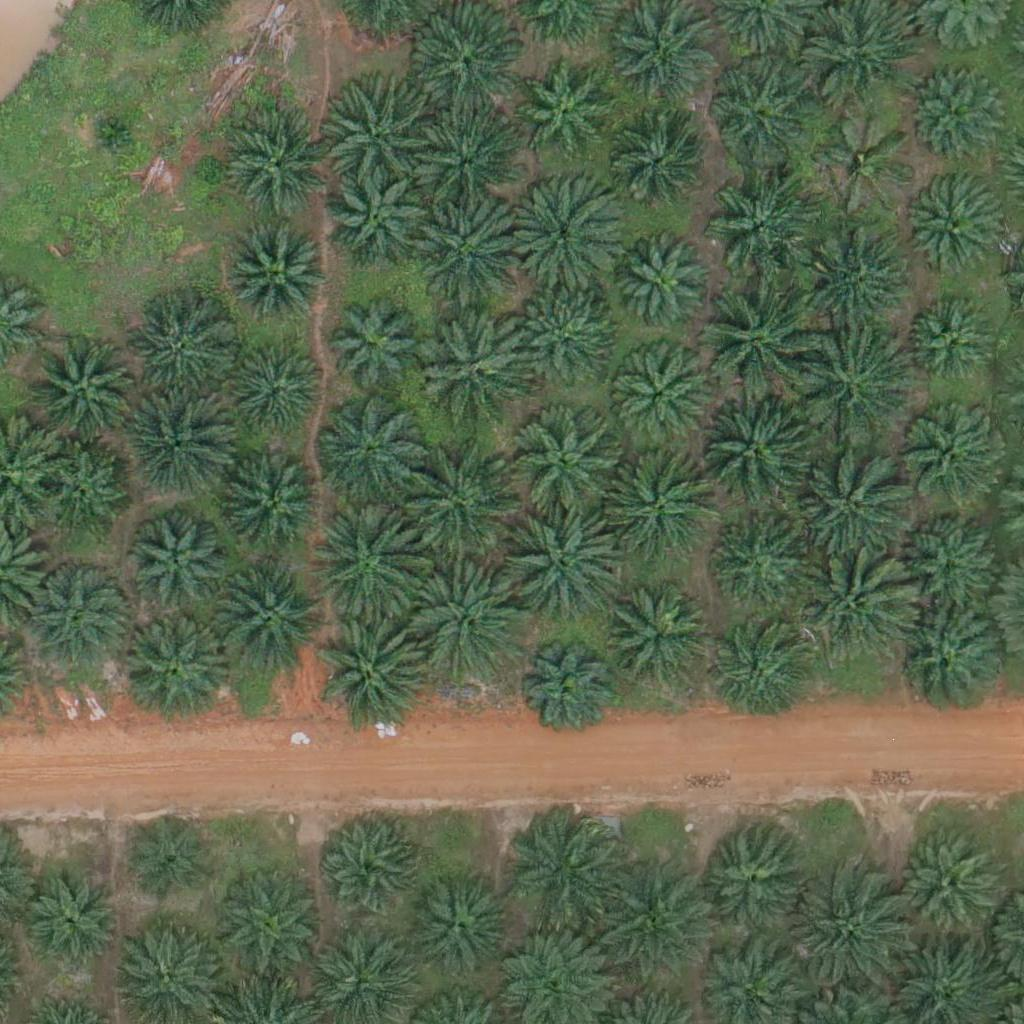Kelapa_Sawit: (699, 392, 812, 506), (506, 176, 619, 290), (415, 192, 528, 306), (409, 569, 522, 683), (306, 509, 419, 623), (122, 610, 235, 724), (209, 562, 322, 676), (589, 870, 702, 983), (503, 819, 616, 932), (793, 446, 906, 559), (796, 217, 909, 330), (698, 286, 811, 399), (601, 450, 714, 563), (511, 411, 624, 524), (420, 310, 533, 423), (121, 389, 234, 502), (694, 824, 806, 938), (209, 868, 321, 982), (796, 331, 908, 445), (313, 393, 425, 507), (792, 875, 904, 988), (891, 603, 1003, 716), (796, 551, 908, 664), (704, 165, 816, 278), (603, 587, 715, 700), (513, 508, 625, 621), (413, 14, 525, 127), (402, 443, 514, 556), (318, 620, 430, 733), (324, 70, 436, 183), (26, 333, 138, 446), (894, 835, 994, 936), (412, 871, 512, 972), (907, 62, 1007, 163), (904, 178, 1004, 279), (903, 404, 1003, 505), (707, 63, 807, 164), (711, 516, 811, 617), (708, 625, 808, 726), (613, 8, 713, 109), (608, 348, 708, 449), (514, 63, 614, 164), (325, 298, 425, 399), (326, 168, 426, 269), (127, 519, 227, 620), (28, 563, 128, 664), (317, 818, 417, 918), (22, 864, 122, 964), (904, 506, 1004, 606), (816, 113, 916, 213), (605, 122, 705, 222), (516, 295, 616, 395), (416, 111, 516, 211), (227, 119, 327, 219), (228, 228, 328, 328), (228, 344, 328, 444), (224, 460, 324, 560), (130, 304, 230, 404), (618, 242, 706, 331), (126, 814, 214, 902), (906, 303, 994, 391), (38, 447, 126, 535), (521, 649, 608, 737), (85, 106, 135, 157)
